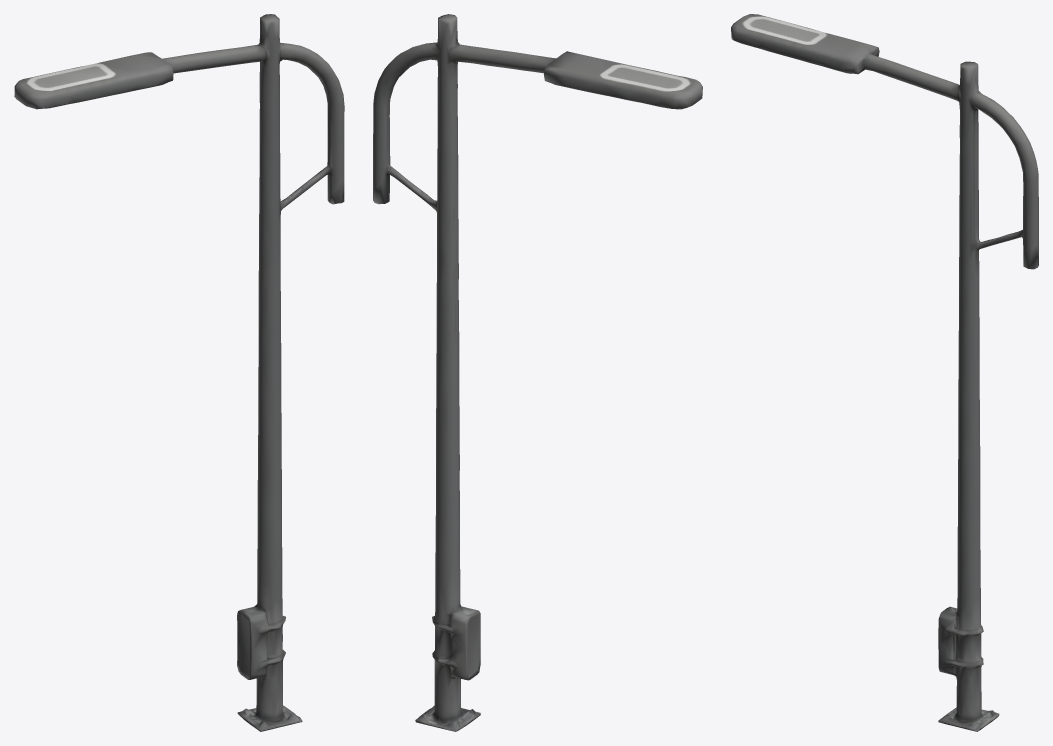
File: Meshy_AI_Streetlight_Luminosit_0114170302_texture.fbx
3 views of the same model, side by side, from view 1: azimuth 30°, elevation 25°; view 2: azimuth 150°, elevation 25°; view 3: azimuth 330°, elevation 25° (orthographic). The views are drawn at different scales.
Parts seen in each view (by area): view 1: Mesh_0; view 2: Mesh_0; view 3: Mesh_0.
Part boxes in pixels (<box>): Mesh_0: <box>14,14,344,731</box>; Mesh_0: <box>373,14,702,731</box>; Mesh_0: <box>731,14,1038,731</box>.
Bounding box in the file's own units: 92.17 × 191 × 12.36.
Materials: 1 (1 with a texture image).
